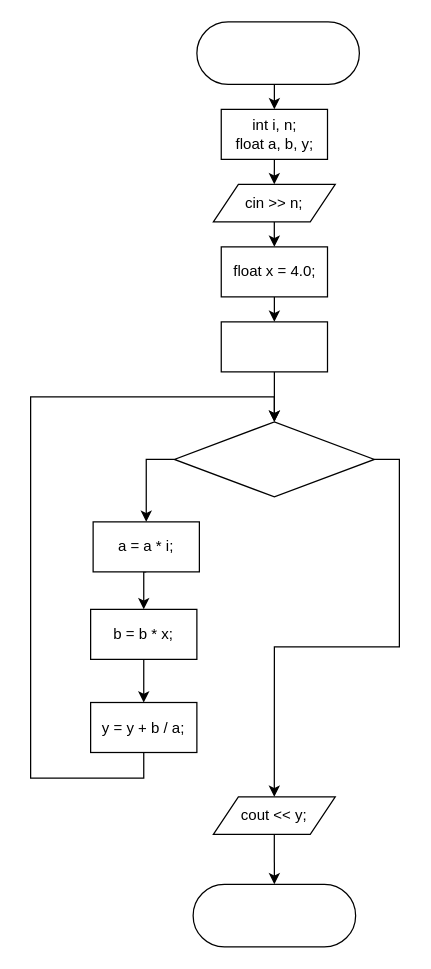
This 431x969 diagram has some shape labels left out. Here are the shapes that lost their labels. From the top down, the box of each, then its label:
(196, 21, 359, 84): начало
(220, 321, 328, 372): y = 1.0; a = b = y;
(173, 421, 374, 497): for (i = 1; i <= n - 1; i++)
(192, 883, 356, 947): конец
